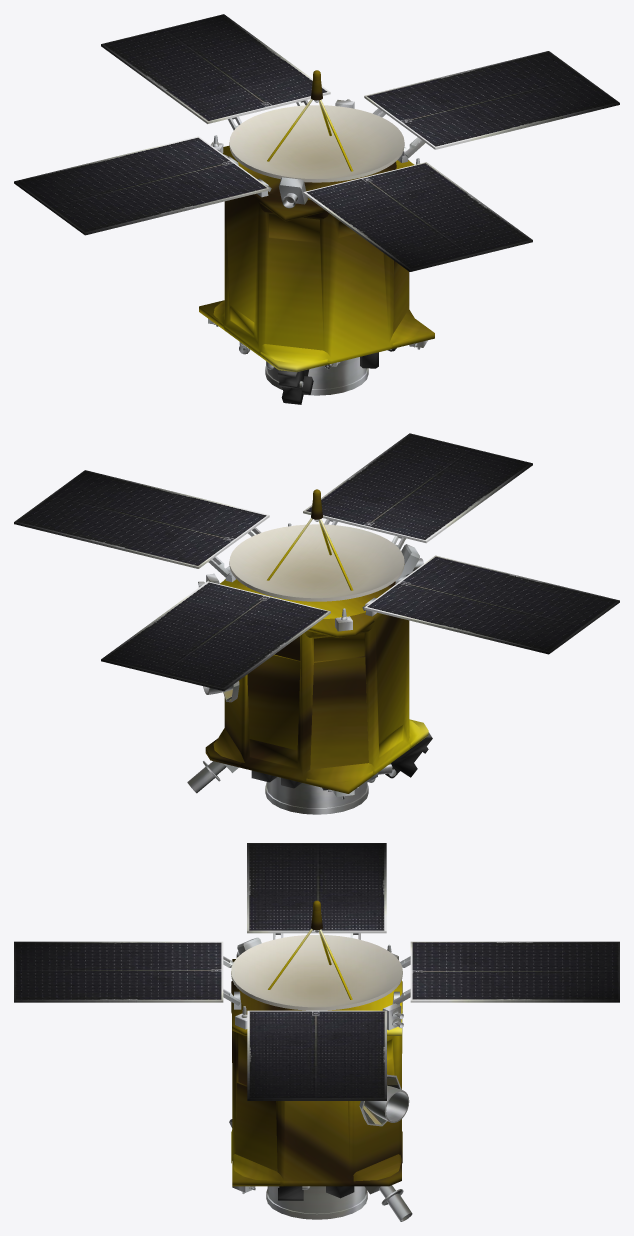
File: near-opt.glb
The picture shows the model from 3 angles, top to bottom: view 1: azimuth 30°, elevation 25°; view 2: azimuth 150°, elevation 25°; view 3: azimuth 270°, elevation 25°; orthographic projection.
Visible parts, largest first — view 1: shiny_panels, foil_gold, tex_01, foil_silver; view 2: shiny_panels, foil_gold, tex_01, foil_silver; view 3: shiny_panels, tex_01, foil_gold, foil_silver.
Boxes of the visible parts, left/top/right/bottom form: shiny_panels: left=16, top=15, right=617, bottom=269; foil_gold: left=199, top=70, right=434, bottom=372; tex_01: left=14, top=14, right=619, bottom=395; foil_silver: left=277, top=348, right=396, bottom=404; shiny_panels: left=16, top=434, right=617, bottom=688; foil_gold: left=205, top=489, right=428, bottom=793; tex_01: left=14, top=433, right=619, bottom=814; foil_silver: left=251, top=732, right=432, bottom=790; shiny_panels: left=15, top=843, right=618, bottom=1098; tex_01: left=14, top=843, right=619, bottom=1221; foil_gold: left=231, top=900, right=402, bottom=1186; foil_silver: left=229, top=1119, right=354, bottom=1200.
Bounding box in the file's own units: 5.29 × 2.86 × 5.29.
Materials: 3 (3 with a texture image).
